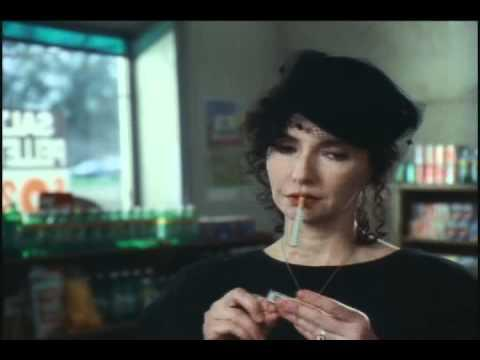smoking: (282, 190, 308, 246)
